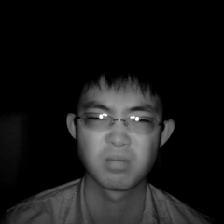sad: (67, 53, 176, 197)
